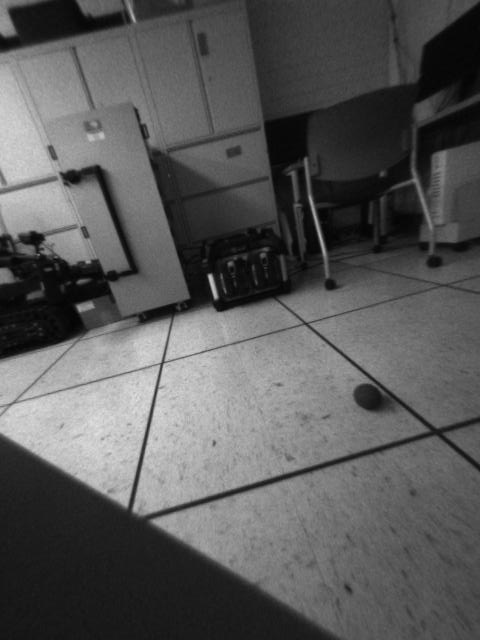dogtoy: (348, 375, 392, 417)
